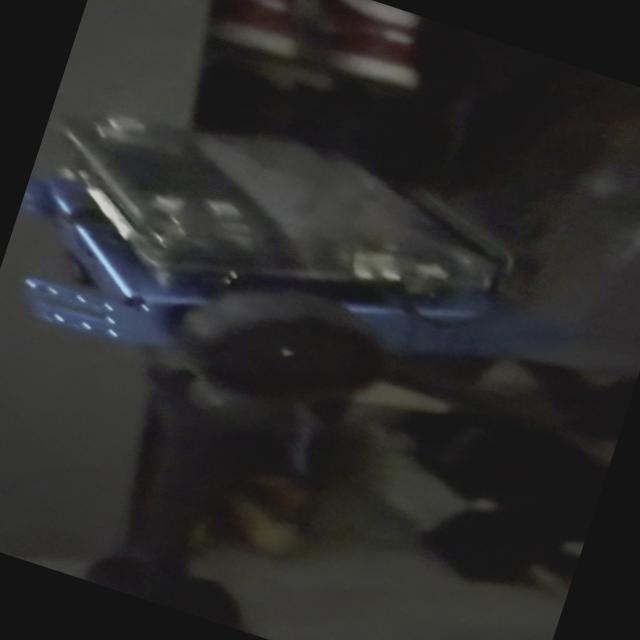mbot-detection: (0, 53, 573, 488)
